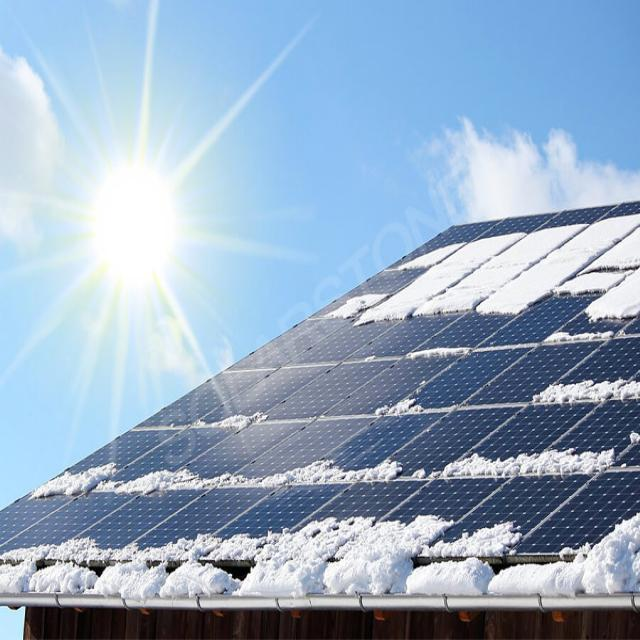Anomaly Solar Panel: (0, 201, 640, 561)
Snow: (406, 222, 589, 315), (472, 213, 639, 314), (350, 231, 527, 326), (88, 454, 409, 495), (407, 442, 618, 481), (327, 510, 469, 560), (250, 513, 384, 561), (548, 226, 639, 296), (414, 520, 542, 556), (178, 524, 297, 559), (27, 459, 121, 499), (522, 375, 639, 402), (107, 531, 213, 560), (582, 268, 638, 321), (184, 409, 268, 435), (391, 241, 463, 270), (317, 292, 389, 318), (43, 536, 120, 560), (407, 342, 484, 360), (371, 395, 427, 416), (539, 332, 626, 344), (0, 542, 58, 559), (364, 353, 378, 363)
